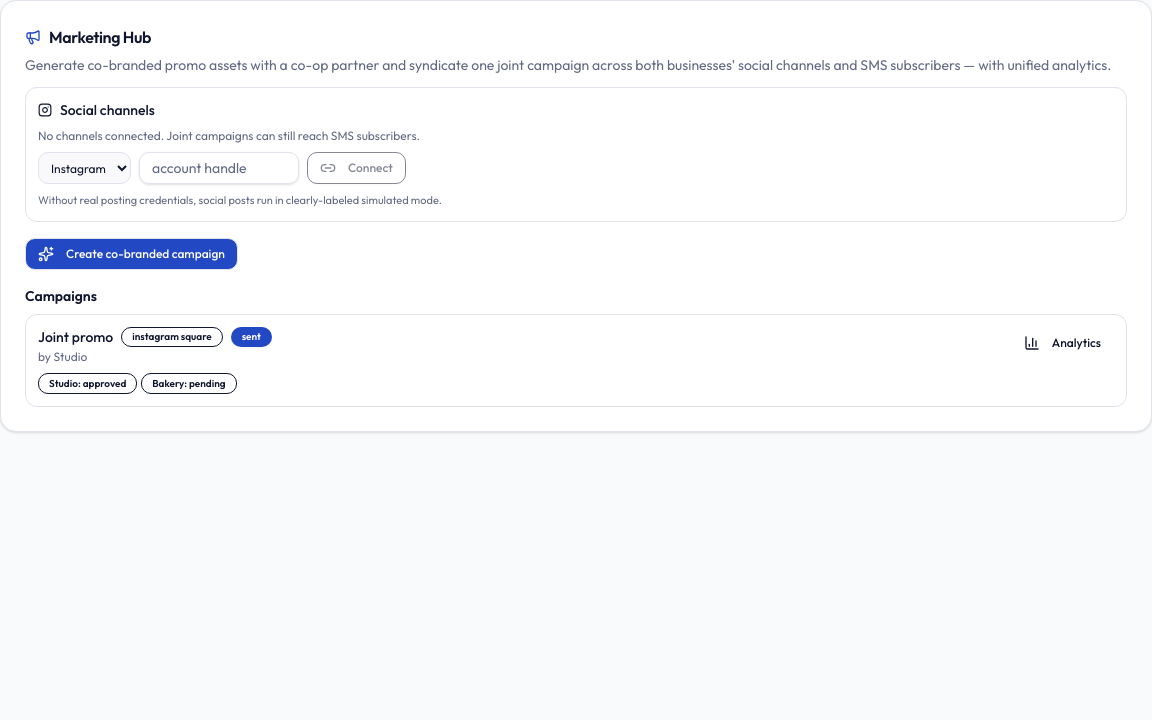
CoopMarketingSection › shows the analytics ledger for a sent campaign with simulated reach flagged
Click the button with test id "button-analytics-marketing-10" at (1062, 342), box [1011,326,1114,358]
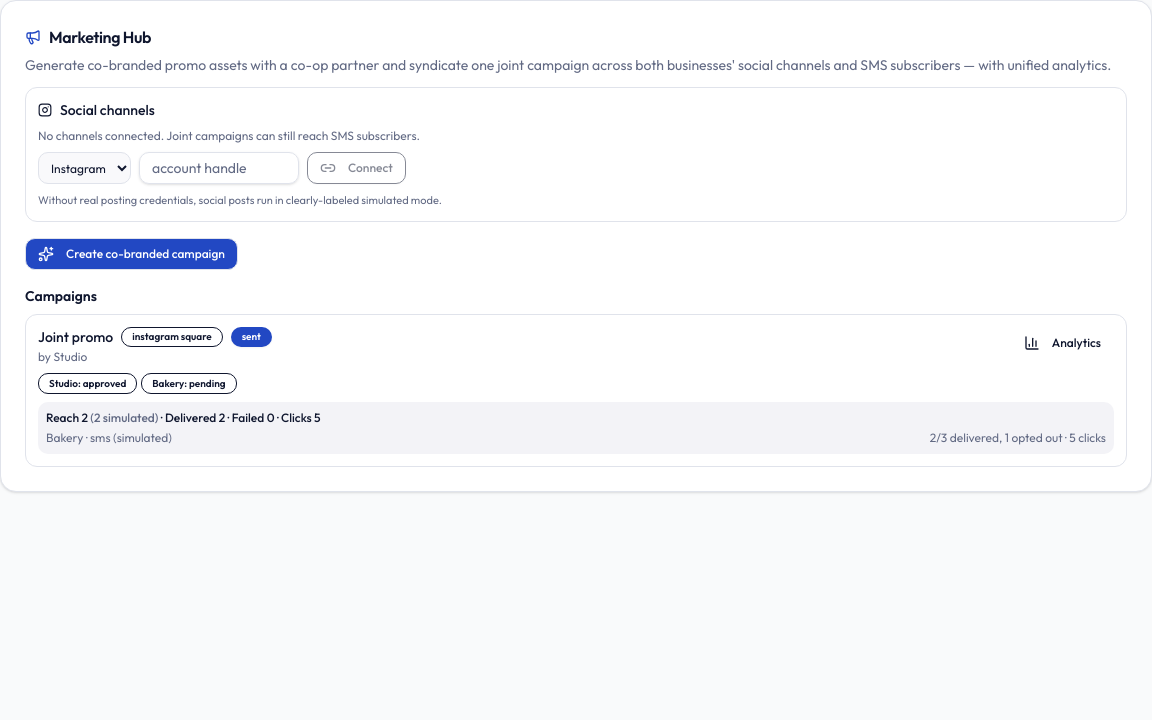
Result: the element with test id "analytics-marketing-10" shows "Reach 2" at [38,402,1114,454]
Result: the element with test id "analytics-marketing-10" shows "(2 simulated)" at [38,402,1114,454]
Result: the element with test id "analytics-marketing-10" shows "5 clicks" at [38,402,1114,454]
